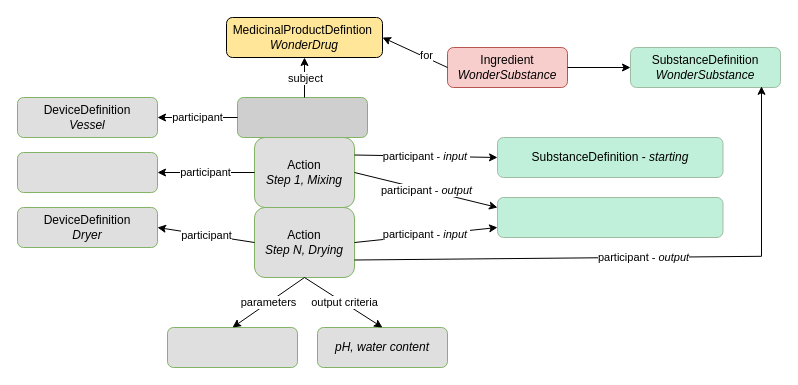
The diagram is 798 pixels wide and 385 high, and some of its shapes have lost their labels. The centre of each missing label's shape, as x and y in pixels:
"DeviceDefinition Mixer" goes at (x=87, y=172).
"PlanDefinition Manufacturing Process" goes at (x=302, y=117).
"SubstanceDefinition - intermediate" goes at (x=609, y=217).
"vessel capacity, temperature" goes at (x=232, y=347).
